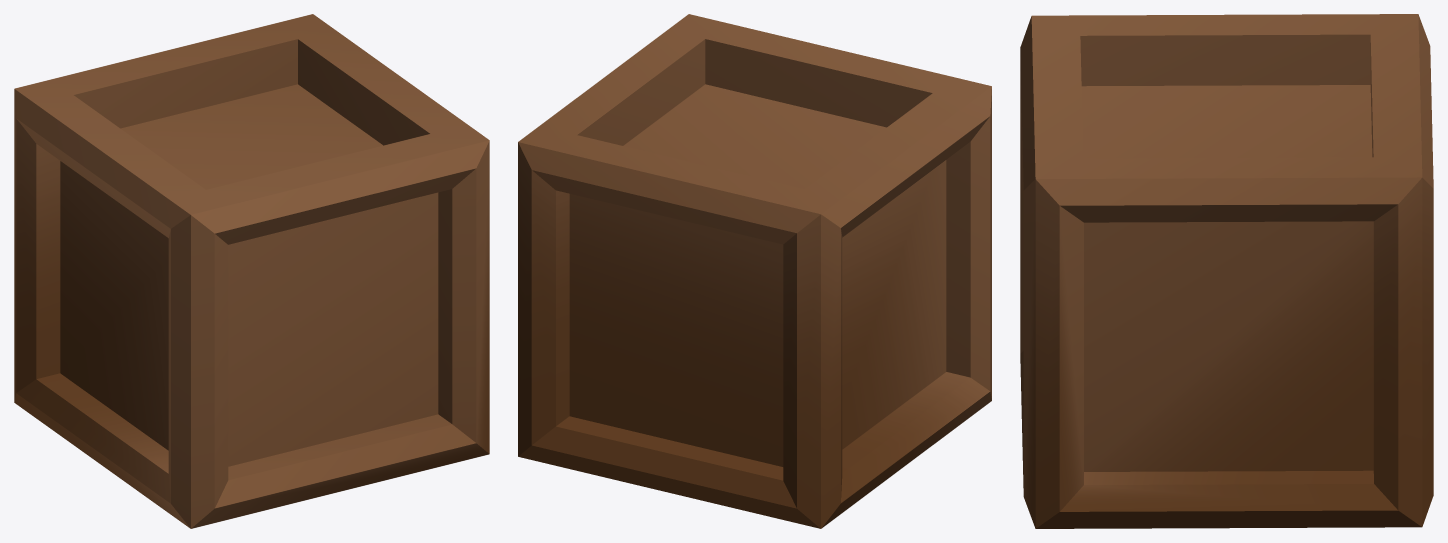
Rendered from WoodenBox.fbx.
The picture shows the model from 3 angles, left to right: view 1: azimuth 30°, elevation 25°; view 2: azimuth 150°, elevation 25°; view 3: azimuth 270°, elevation 25°; orthographic projection. The views are drawn at different scales.
Parts seen in each view (by area): view 1: WoodenBox.004; view 2: WoodenBox.004; view 3: WoodenBox.004.
Part boxes in pixels (x1=…): WoodenBox.004: x1=14, y1=14, x2=489, y2=528; WoodenBox.004: x1=518, y1=14, x2=991, y2=528; WoodenBox.004: x1=1020, y1=14, x2=1433, y2=528.
Bounding box in the file's own units: 0.9428 × 0.8802 × 0.9428.
Materials: 1 (1 with a texture image).
